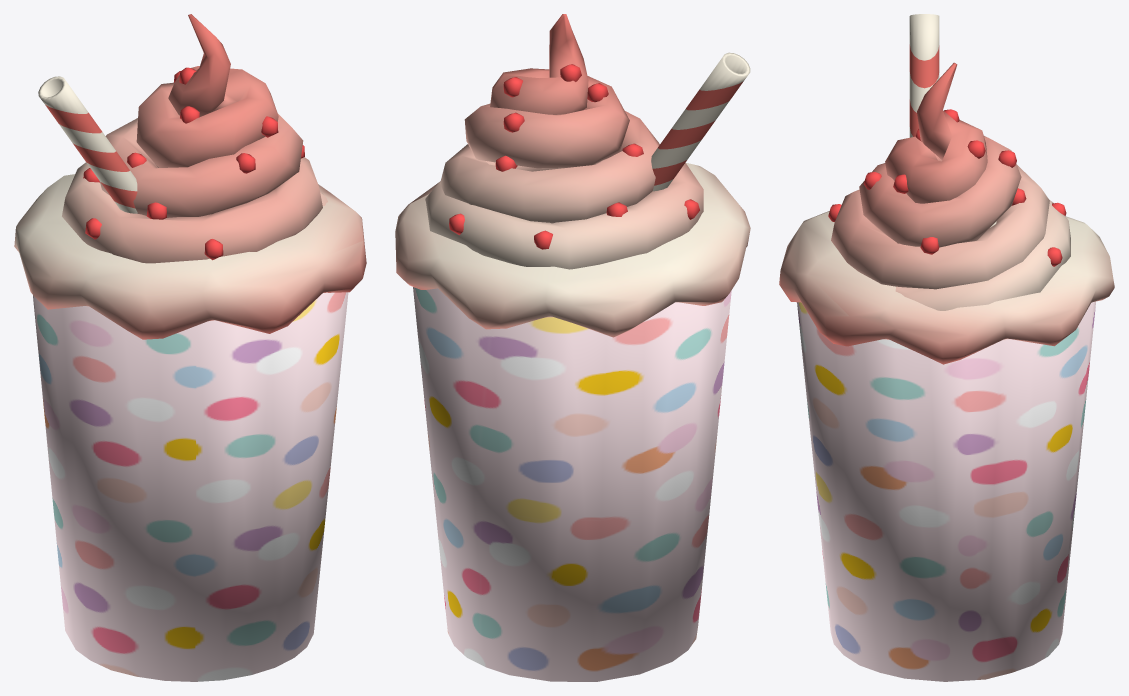
The model's file is Milkshake-4.fbx.
3 views of the same model, side by side, from view 1: azimuth 30°, elevation 25°; view 2: azimuth 150°, elevation 25°; view 3: azimuth 270°, elevation 25° (orthographic). The views are drawn at different scales.
Visible parts, largest first — view 1: Milkshake-4; view 2: Milkshake-4; view 3: Milkshake-4.
Part boxes in pixels (<box>): Milkshake-4: <box>14,14,366,681</box>; Milkshake-4: <box>395,14,750,681</box>; Milkshake-4: <box>779,14,1114,681</box>.
Size of the model in its own units: 26.6 by 49.05 by 26.08.
